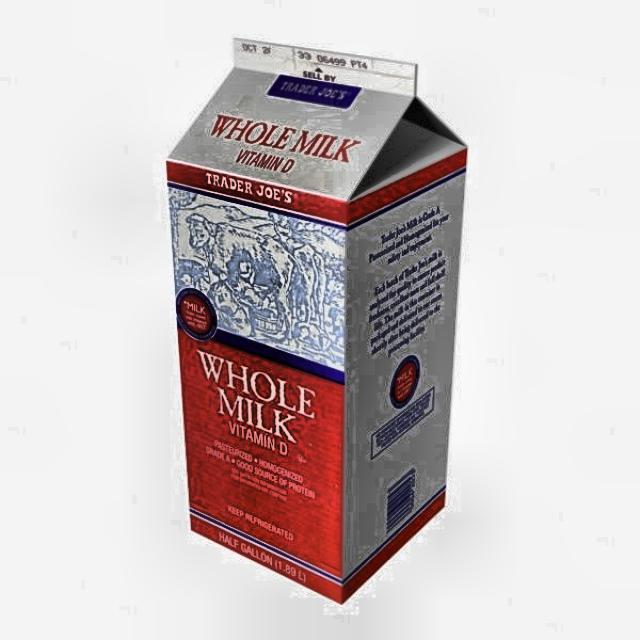cardboard: (164, 38, 468, 604)
